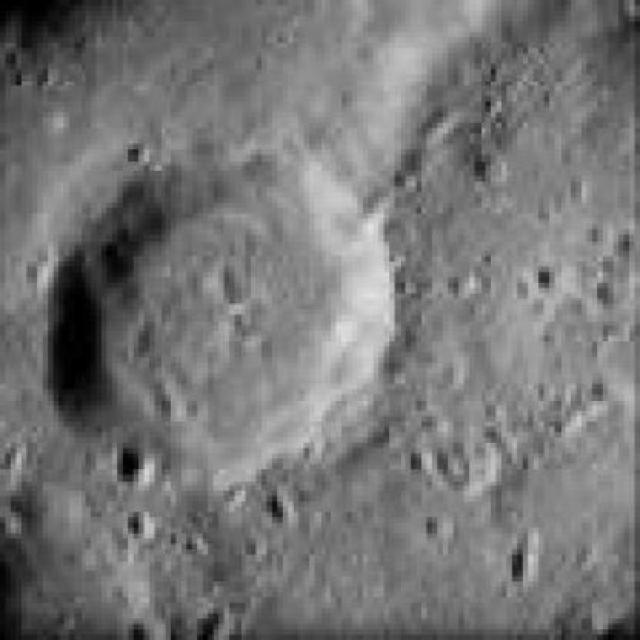crater: (46, 151, 394, 489)
